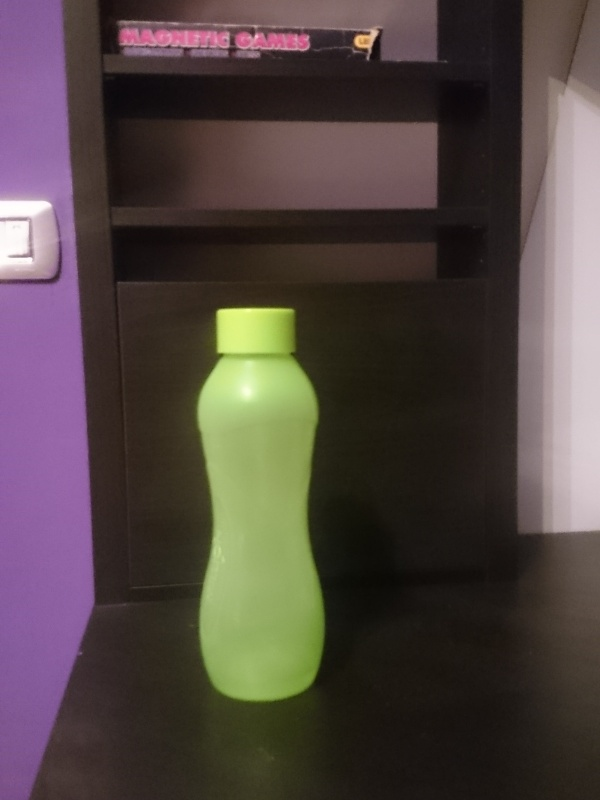my bottle: (195, 308, 324, 701)
